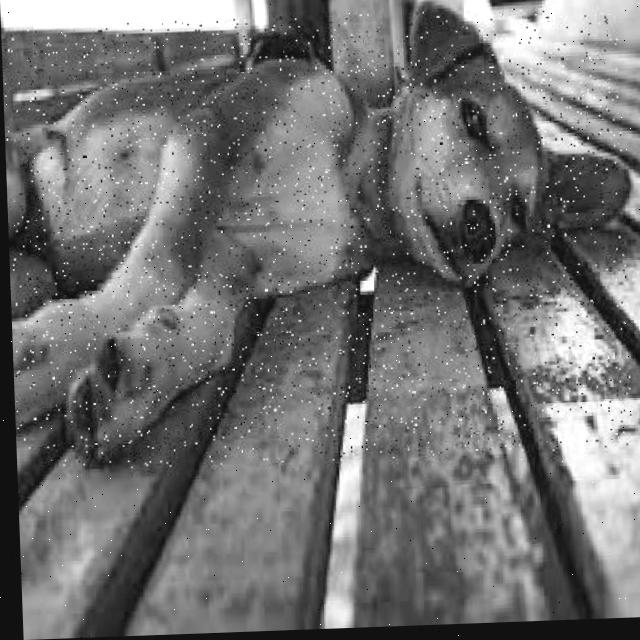Dog: (2, 5, 634, 474)
